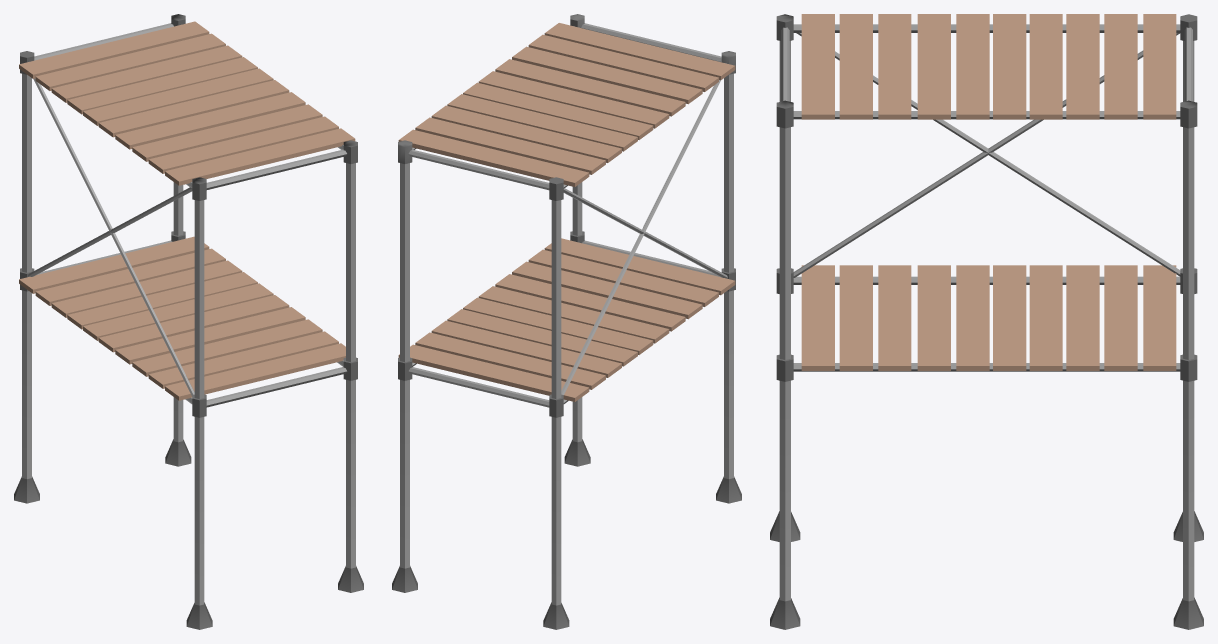
File: Build_Trees_V1.fbx
3 views of the same model, side by side, from view 1: azimuth 30°, elevation 25°; view 2: azimuth 150°, elevation 25°; view 3: azimuth 270°, elevation 25° (orthographic). The views are drawn at different scales.
Parts seen in each view (by area): view 1: Build_Trees_V1; view 2: Build_Trees_V1; view 3: Build_Trees_V1.
Part boxes in pixels (<box>): Build_Trees_V1: <box>14,14,363,629</box>; Build_Trees_V1: <box>392,14,741,629</box>; Build_Trees_V1: <box>770,14,1203,629</box>.
Size of the model in its own units: 3.55 by 8.45 by 6.41.
